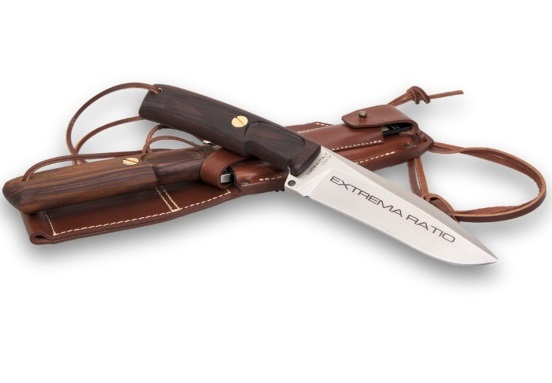knife: (273, 135, 511, 273)
